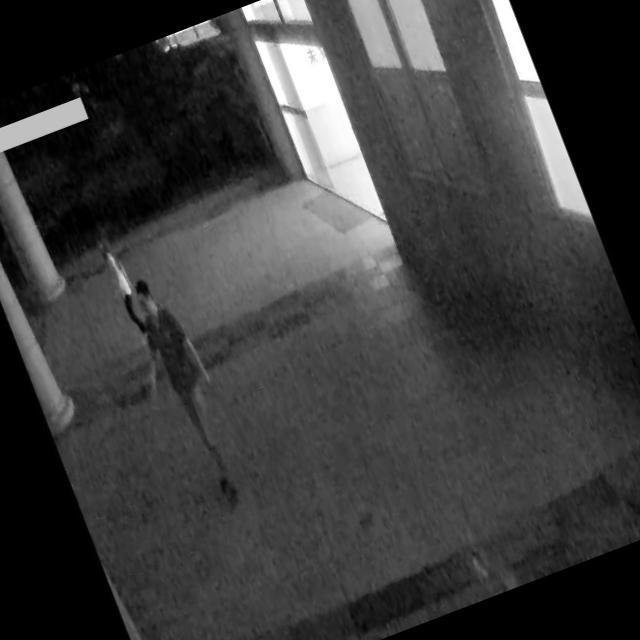person: (113, 266, 266, 532), (84, 221, 154, 344)
